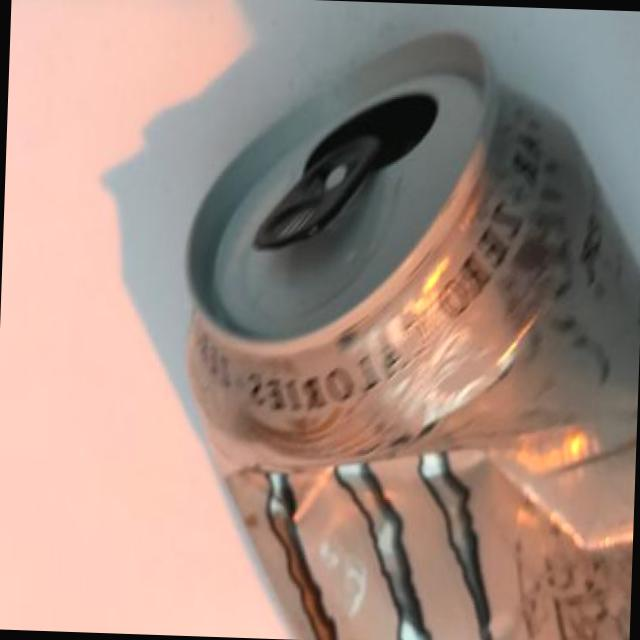kim_loai: (187, 38, 640, 640)
